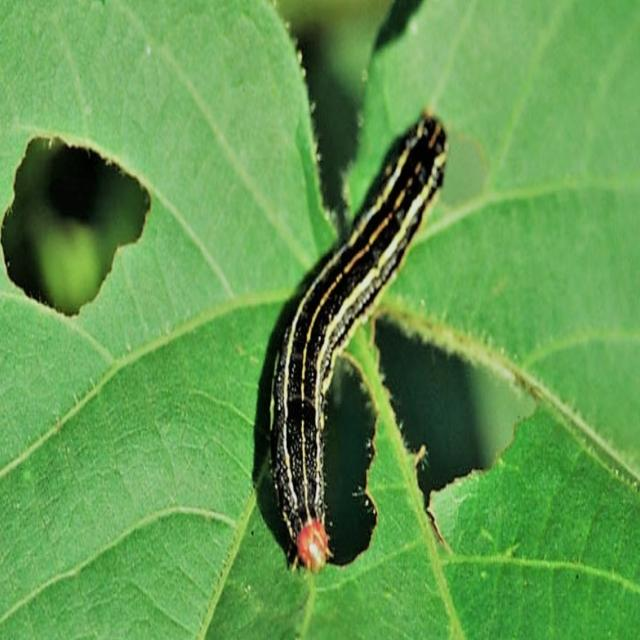armyworm: (268, 106, 449, 574)
